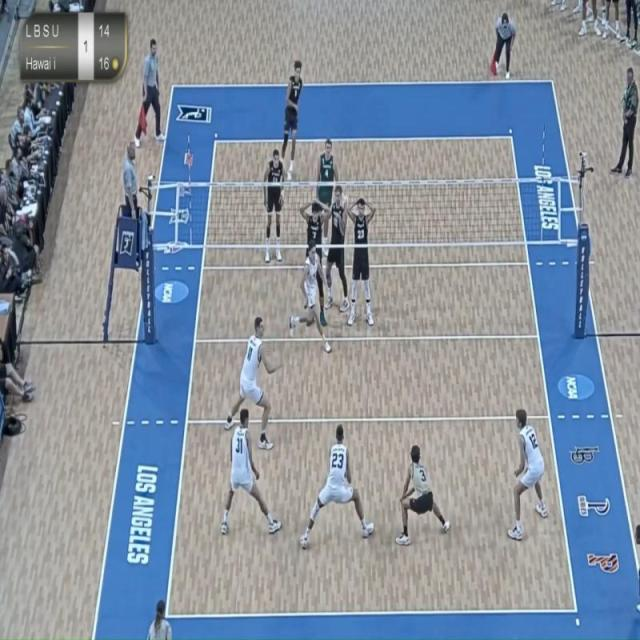volleyball: (338, 190, 350, 212)
